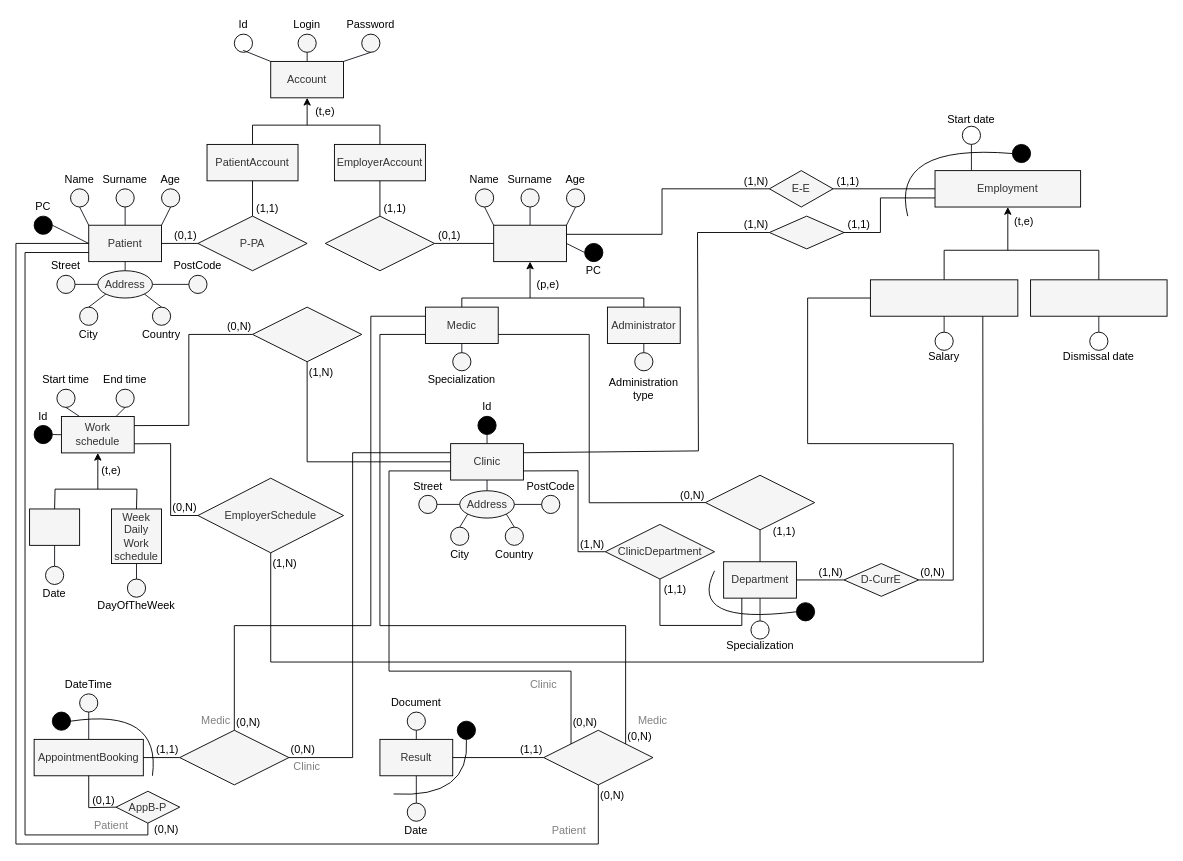
This 1183x861 diagram has some shape labels left out. The shapes that lost their labels are listed below. From the top down, each one's box as (x1, y1, x2, y2) in pixels, then its label:
(324, 215, 435, 271): E-EA
(493, 224, 566, 262): Employer
(768, 215, 844, 249): C-E
(870, 279, 1018, 316): CurrentEmployment
(1030, 279, 1167, 316): PastEmployment
(252, 306, 362, 362): ClinicSchedule
(705, 474, 815, 530): PrimaryMedic
(29, 508, 80, 545): Daily Work schedule
(179, 729, 289, 785): AppB-MC
(543, 729, 653, 785): Result MCP
